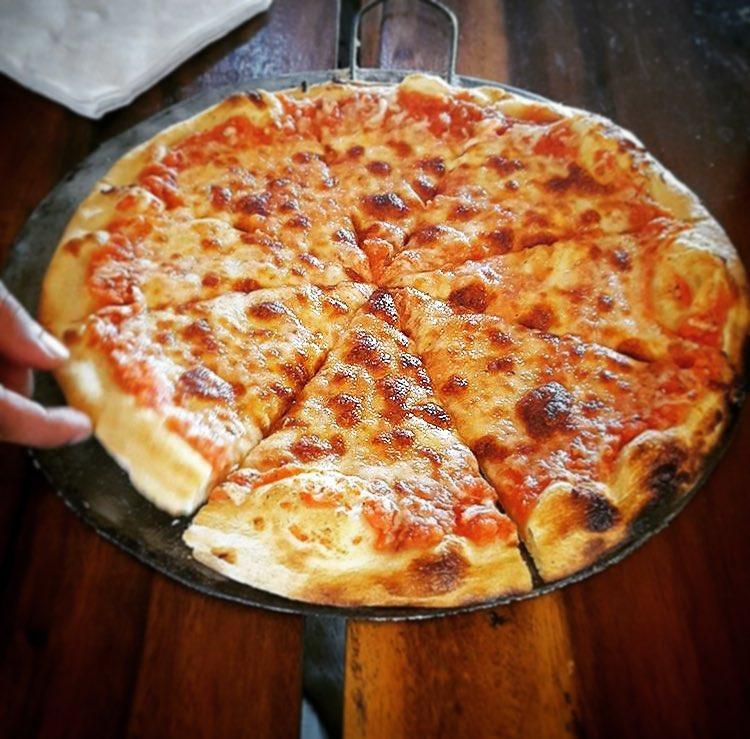Cheese: (444, 300, 603, 426), (310, 318, 435, 478), (159, 298, 307, 416), (432, 173, 587, 281), (312, 140, 421, 251), (180, 183, 302, 276), (328, 259, 418, 301)
Pizza: (39, 83, 750, 612)
